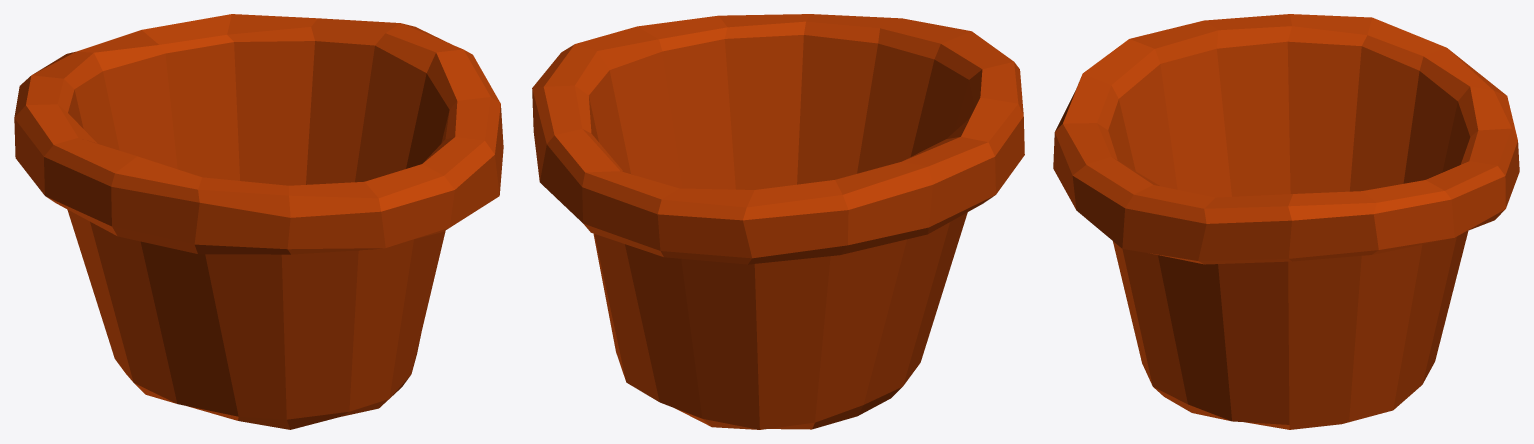
The model's file is flower_pot_unbroken.fbx.
3 views of the same model, side by side, from view 1: azimuth 30°, elevation 25°; view 2: azimuth 150°, elevation 25°; view 3: azimuth 270°, elevation 25° (orthographic). The views are drawn at different scales.
Visible parts, largest first — view 1: flower pot 1.002; view 2: flower pot 1.002; view 3: flower pot 1.002.
Part boxes in pixels (x1,y1,x2,y2): flower pot 1.002: (14,14,503,429); flower pot 1.002: (532,14,1024,429); flower pot 1.002: (1053,14,1519,429).
Bounding box in the file's own units: 48.92 × 30.9 × 48.72.
